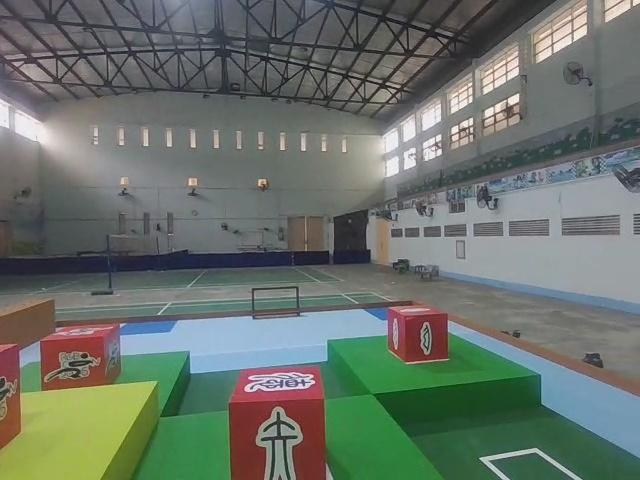R1: (35, 319, 123, 392)
R2 Fake: (226, 363, 328, 480)
R2 Real: (385, 302, 450, 366)
